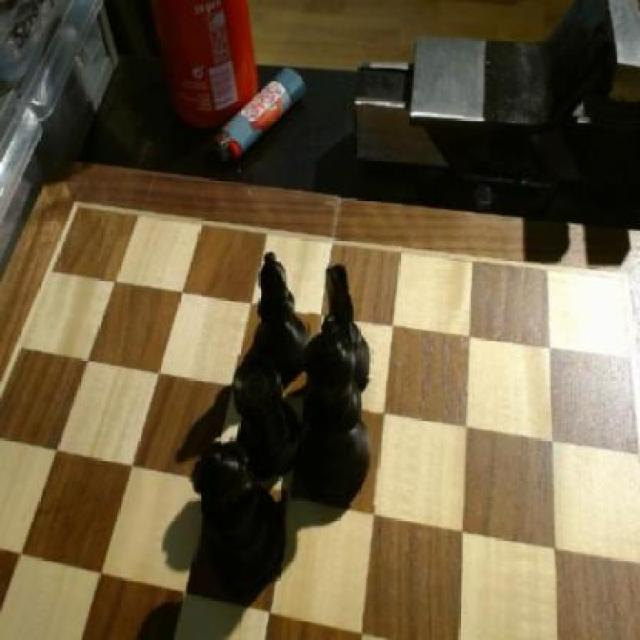bishop: (252, 248, 310, 372)
black-bishop: (298, 317, 382, 506)
black-king: (326, 265, 374, 379)
black-pawn: (191, 434, 295, 588)
black-queen: (234, 356, 306, 478)
